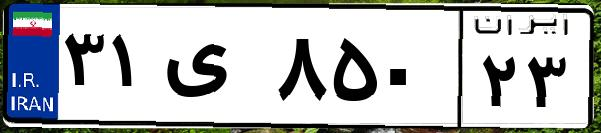0: (385, 28, 445, 110)
1: (110, 28, 158, 98)
2: (475, 38, 525, 113)
3: (57, 26, 110, 100), (525, 38, 570, 115)
5: (330, 28, 385, 110)
8: (270, 28, 330, 110)
ی: (158, 20, 270, 120)
